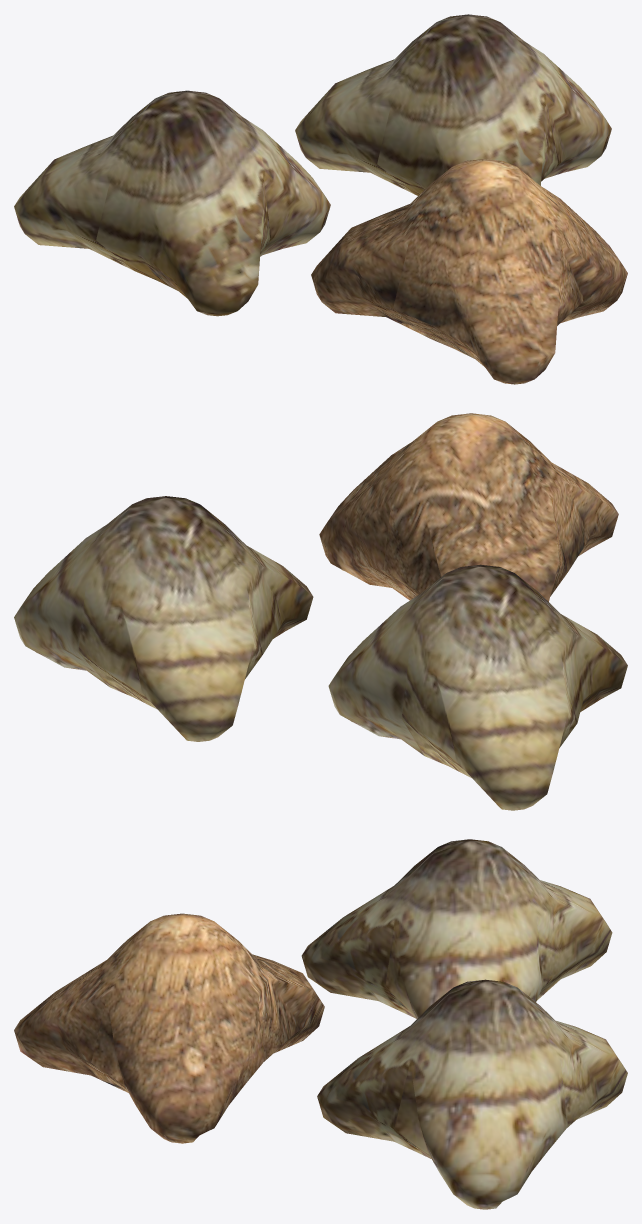
The model's file is baiji.FBX.
3 views of the same model, one above another, from view 1: azimuth 30°, elevation 25°; view 2: azimuth 150°, elevation 25°; view 3: azimuth 270°, elevation 25° (orthographic). The views are drawn at different scales.
Parts seen in each view (by area): view 1: Sphere001, Sphere003, Sphere002; view 2: Sphere002, Sphere001, Sphere003; view 3: Sphere002, Sphere003, Sphere001.
Part boxes in pixels (x1,y1,x2,y2): Sphere001: (14, 90, 330, 316); Sphere003: (311, 159, 627, 384); Sphere002: (295, 14, 611, 195); Sphere002: (14, 496, 313, 741); Sphere001: (328, 564, 627, 810); Sphere003: (319, 413, 618, 601); Sphere002: (317, 979, 627, 1209); Sphere003: (14, 913, 324, 1143); Sphere001: (301, 839, 612, 1018).
Size of the model in its own units: 0.4277 by 0.1351 by 0.4191.
1 material, 1 textured.
